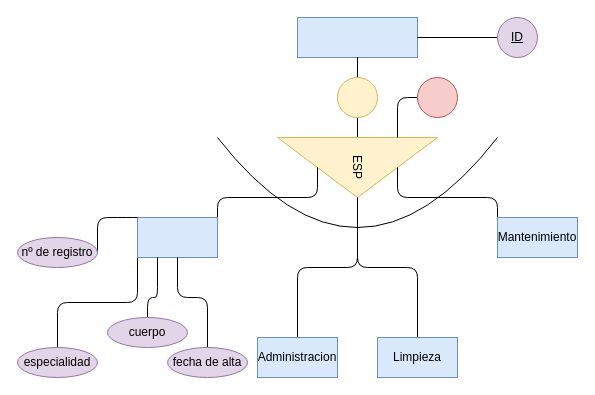
The diagram is 595 pixels wide and 395 high, and some of its shapes have lost their labels. The shapes that lost their labels are listed below. From the top down, each one's centre as x and y in pixels, then its label:
At pixel 357 37: "Trabajadores".
At pixel 437 97: "Tipo".
At pixel 177 237: "Profesor".
